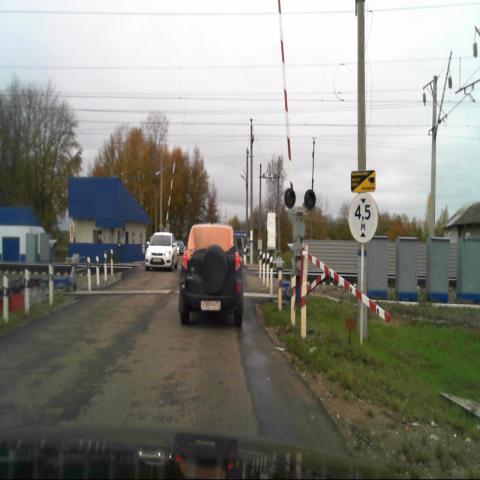3_13: (348, 192, 380, 246)
